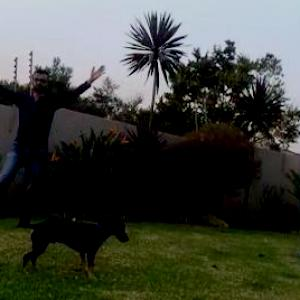takeoff: (0, 69, 98, 205)
